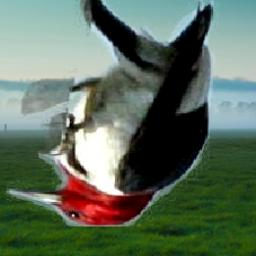Woodpecker: (5, 0, 218, 227)
